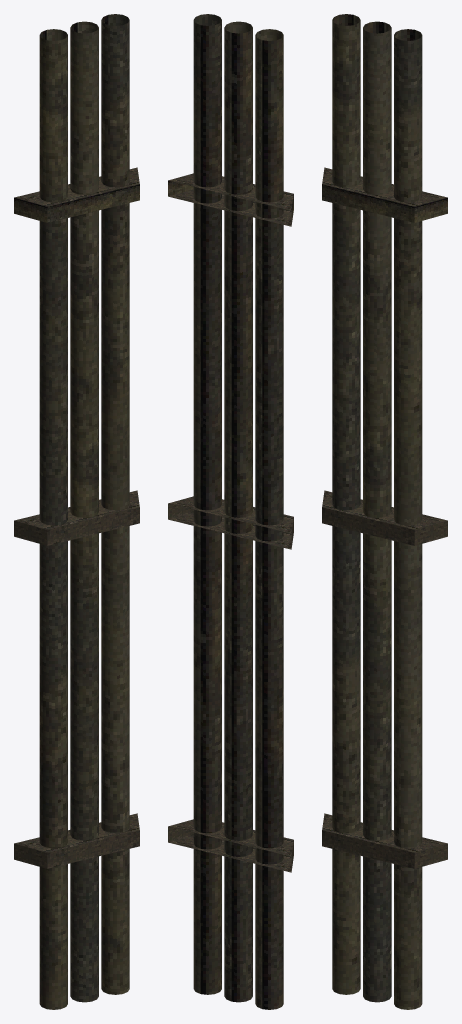
The model's file is pipes_hr_1.glb.
3 renders of one model, left to right at view 1: azimuth 30°, elevation 25°; view 2: azimuth 150°, elevation 25°; view 3: azimuth 330°, elevation 25°, orthographic.
Visible parts, largest first — view 1: pipes_hr_1; view 2: pipes_hr_1; view 3: pipes_hr_1.
Boxes of the visible parts, x1=… form: pipes_hr_1: x1=14, y1=14, x2=139, y2=1009; pipes_hr_1: x1=168, y1=14, x2=293, y2=1009; pipes_hr_1: x1=322, y1=14, x2=447, y2=1009.
Size of the model in its own units: 0.4 by 3 by 0.1.
1 material, 1 textured.
